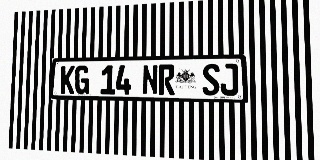1: (100, 65, 116, 94)
4: (116, 65, 131, 95)
G: (75, 65, 89, 94)
J: (220, 63, 238, 96)
K: (60, 66, 75, 94)
N: (142, 64, 158, 95)
R: (158, 64, 175, 95)
S: (202, 64, 220, 95)
